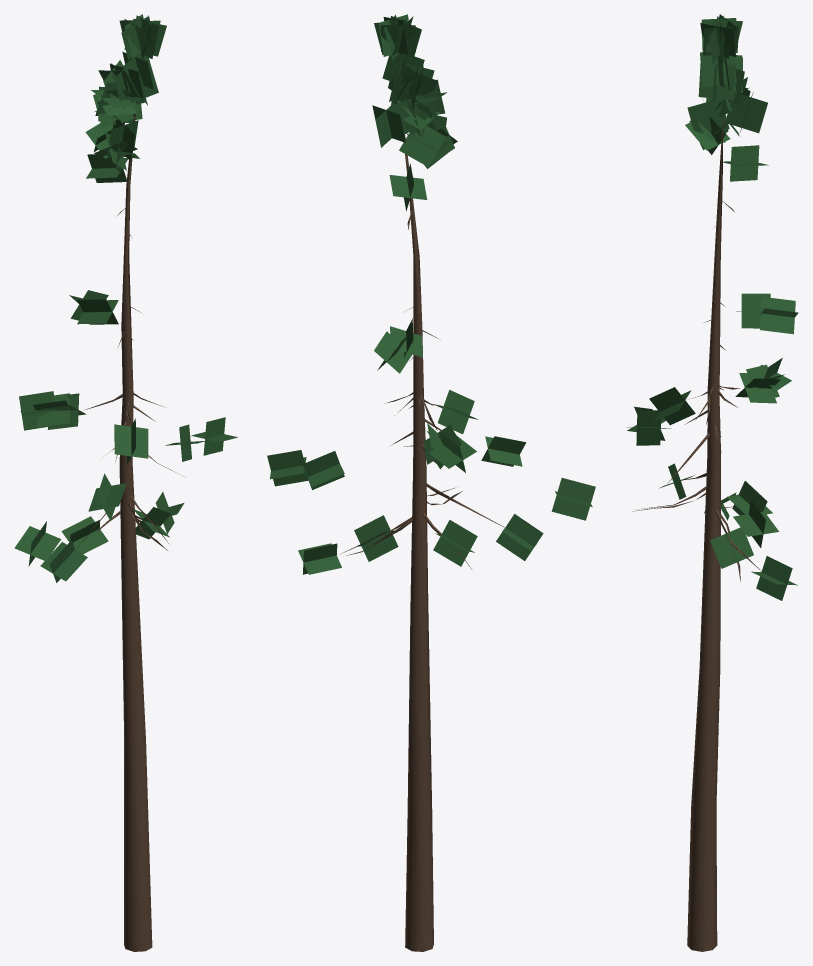
File: pine-1-lod2.glb
3 renders of one model, left to right at view 1: azimuth 30°, elevation 25°; view 2: azimuth 150°, elevation 25°; view 3: azimuth 270°, elevation 25°, orthographic.
Parts seen in each view (by area): view 1: leaves, branches; view 2: leaves, branches; view 3: leaves, branches.
Boxes of the visible parts, <box> form: leaves: <box>14,14,237,582</box>; branches: <box>72,114,185,951</box>; leaves: <box>267,14,595,574</box>; branches: <box>337,55,504,951</box>; leaves: <box>627,14,798,600</box>; branches: <box>632,100,760,951</box>.
Size of the model in its own units: 5.22 by 16.96 by 2.88.
